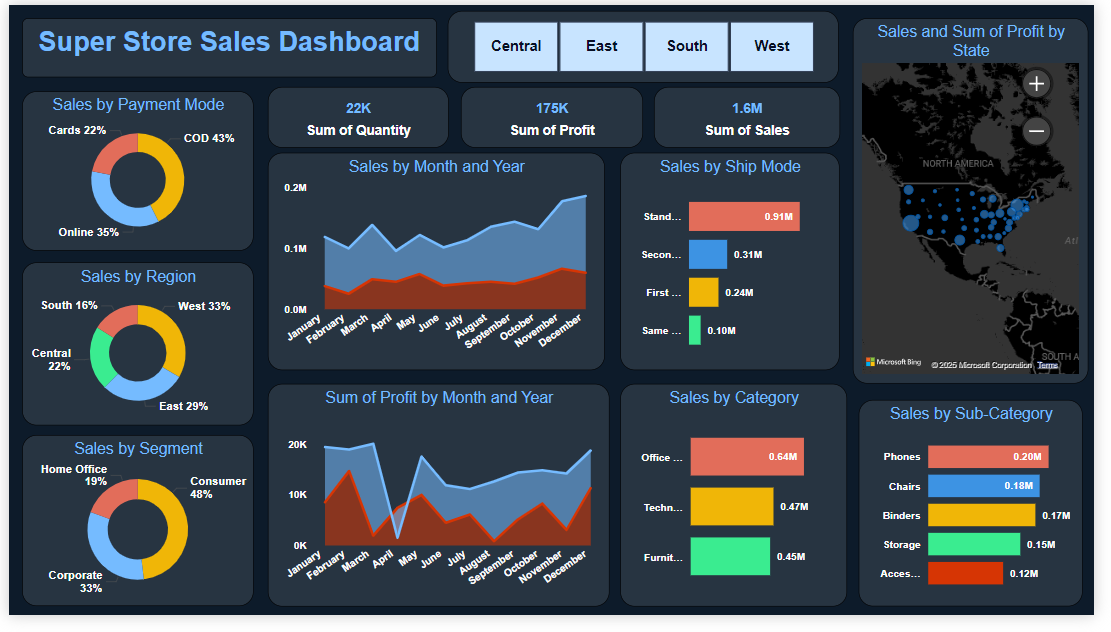

The dashboard page shown, as its layout file describes it:
{"tool":"powerbi","page":{"name":"Page 2","canvas":[1280,720],"ordinal":0},"visuals":[{"type":"textbox","box":[15.2,15.2,489.1,69.6],"z":0},{"type":"donutChart","title":" Sales by Payment Mode","fields":{"Category":["SuperStore_Sales_Dataset.Payment Mode"],"Y":["Sum(SuperStore_Sales_Dataset.Sales)"]},"box":[15.2,101.5,272.7,187.9],"z":1000},{"type":"donutChart","title":" Sales by Region","fields":{"Category":["SuperStore_Sales_Dataset.Region"],"Y":["Sum(SuperStore_Sales_Dataset.Sales)"]},"box":[15.2,303,272.7,192.4],"z":2000},{"type":"donutChart","title":" Sales by Segment","fields":{"Y":["Sum(SuperStore_Sales_Dataset.Sales)"],"Category":["SuperStore_Sales_Dataset.Segment"]},"box":[15.2,507.6,272.7,201.5],"z":3000},{"type":"barChart","title":" Sales by Sub-Category","fields":{"Y":["Sum(SuperStore_Sales_Dataset.Sales)"],"Category":["SuperStore_Sales_Dataset.Sub-Category"]},"box":[1001.5,465.7,264.2,243.3],"z":4000},{"type":"barChart","title":" Sales by Category","fields":{"Y":["Sum(SuperStore_Sales_Dataset.Sales)"],"Category":["SuperStore_Sales_Dataset.Category"]},"box":[720.9,446.3,267.2,262.7],"z":5000},{"type":"barChart","title":" Sales by Ship Mode","fields":{"Category":["SuperStore_Sales_Dataset.Ship Mode"],"Y":["Sum(SuperStore_Sales_Dataset.Sales)"]},"box":[720.9,174.6,258.2,256.7],"z":6000},{"type":"stackedAreaChart","title":" Sales by Month and Year","fields":{"Y":["Sum(SuperStore_Sales_Dataset.Sales)"],"Category":["SuperStore_Sales_Dataset.Order Date.Variation.Date Hierarchy.Month","SuperStore_Sales_Dataset.Order Date.Variation.Date Hierarchy.Day"],"Series":["SuperStore_Sales_Dataset.Order Date.Variation.Date Hierarchy.Year"]},"box":[304.5,174.6,397,256.7],"z":7000},{"type":"stackedAreaChart","fields":{"Y":["Sum(SuperStore_Sales_Dataset.Profit)"],"Category":["SuperStore_Sales_Dataset.Order Date.Variation.Date Hierarchy.Month","SuperStore_Sales_Dataset.Order Date.Variation.Date Hierarchy.Day"],"Series":["SuperStore_Sales_Dataset.Order Date.Variation.Date Hierarchy.Year"]},"box":[304.5,446.3,403,262.7],"z":8000},{"type":"map","title":" Sales and Sum of Profit by State","fields":{"Category":["SuperStore_Sales_Dataset.State"],"Size":["Sum(SuperStore_Sales_Dataset.Sales)"]},"box":[994.8,15.5,277.6,431],"z":9000},{"type":"card","fields":{"Values":["Sum(SuperStore_Sales_Dataset.Sales)"]},"box":[759.7,97,219.4,71.6],"z":10000},{"type":"card","fields":{"Values":["Sum(SuperStore_Sales_Dataset.Profit)"]},"box":[532.8,97,214.9,71.6],"z":11000},{"type":"card","fields":{"Values":["Sum(SuperStore_Sales_Dataset.Quantity)"]},"box":[304.5,97,213.4,71.6],"z":12000},{"type":"slicer","fields":{"Values":["SuperStore_Sales_Dataset.Region"]},"box":[517.9,7.5,461.2,85.1],"z":13000}]}

Visuals, with their boxes in screenshot pixels (x1, y1, x2, y2), scaled from the page's 1280x720 canvas onto the 1111x632 screenshot:
textbox: bbox=(13, 13, 438, 74)
" Sales by Payment Mode" donutChart: bbox=(13, 89, 250, 254)
" Sales by Region" donutChart: bbox=(13, 266, 250, 435)
" Sales by Segment" donutChart: bbox=(13, 446, 250, 622)
" Sales by Sub-Category" barChart: bbox=(869, 409, 1099, 622)
" Sales by Category" barChart: bbox=(626, 392, 858, 622)
" Sales by Ship Mode" barChart: bbox=(626, 153, 850, 379)
" Sales by Month and Year" stackedAreaChart: bbox=(264, 153, 609, 379)
stackedAreaChart - Sum(SuperStore_Sales_Dataset.Profit) x SuperStore_Sales_Dataset.Order Date.Variation.Date Hierarchy.Month: bbox=(264, 392, 614, 622)
" Sales and Sum of Profit by State" map: bbox=(863, 14, 1104, 392)
card - Sum(SuperStore_Sales_Dataset.Sales): bbox=(659, 85, 850, 148)
card - Sum(SuperStore_Sales_Dataset.Profit): bbox=(462, 85, 649, 148)
card - Sum(SuperStore_Sales_Dataset.Quantity): bbox=(264, 85, 450, 148)
slicer - SuperStore_Sales_Dataset.Region: bbox=(450, 7, 850, 81)
